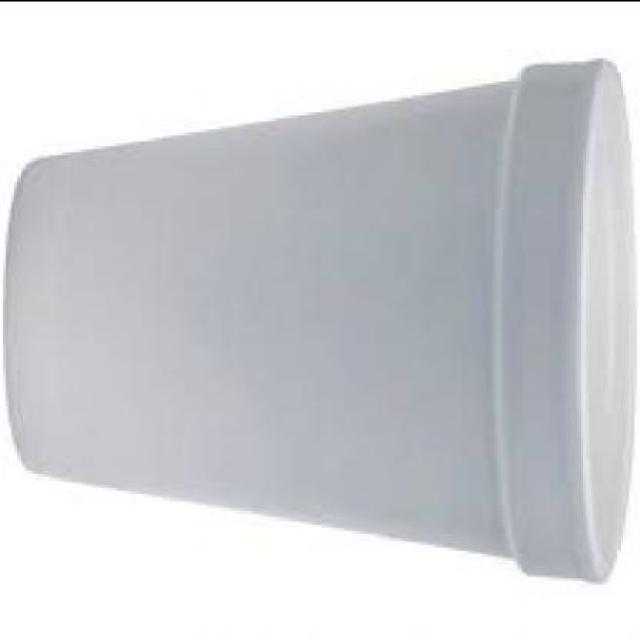PAPER: (6, 60, 632, 583)
